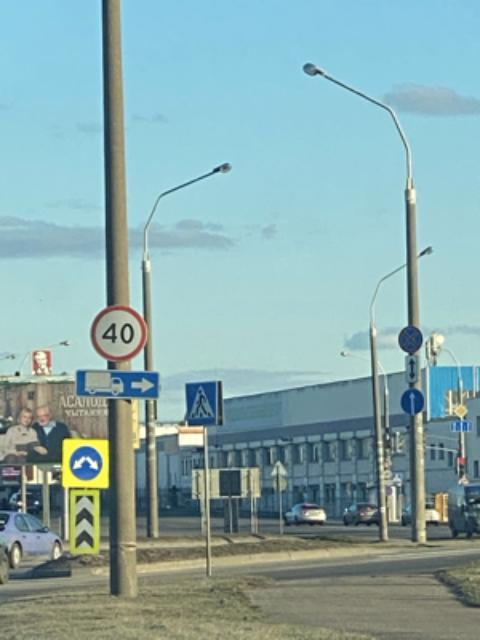crosswalk-sign: (184, 379, 222, 427)
